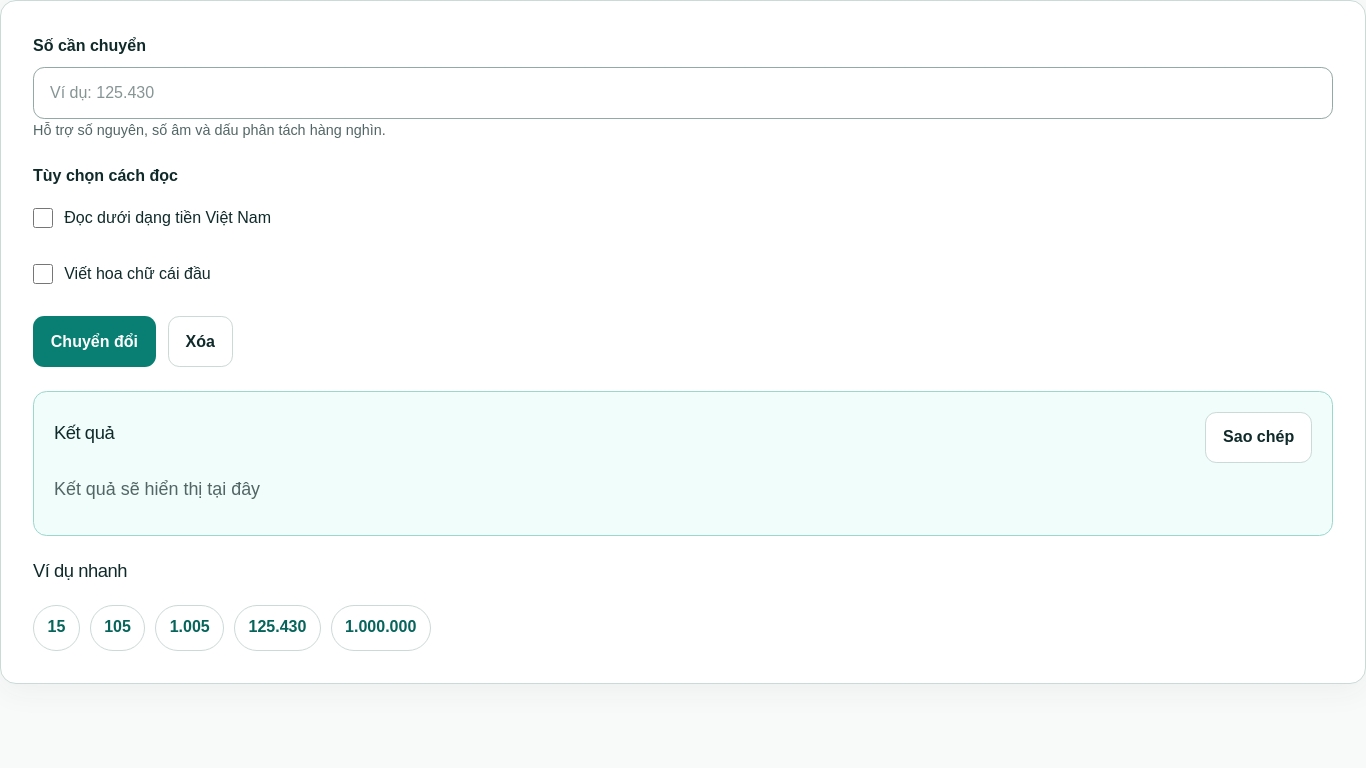
NumberInputForm › shows an accessible validation message
Click the button "Chuyển đổi" at [94, 342], box [33,316,156,367]
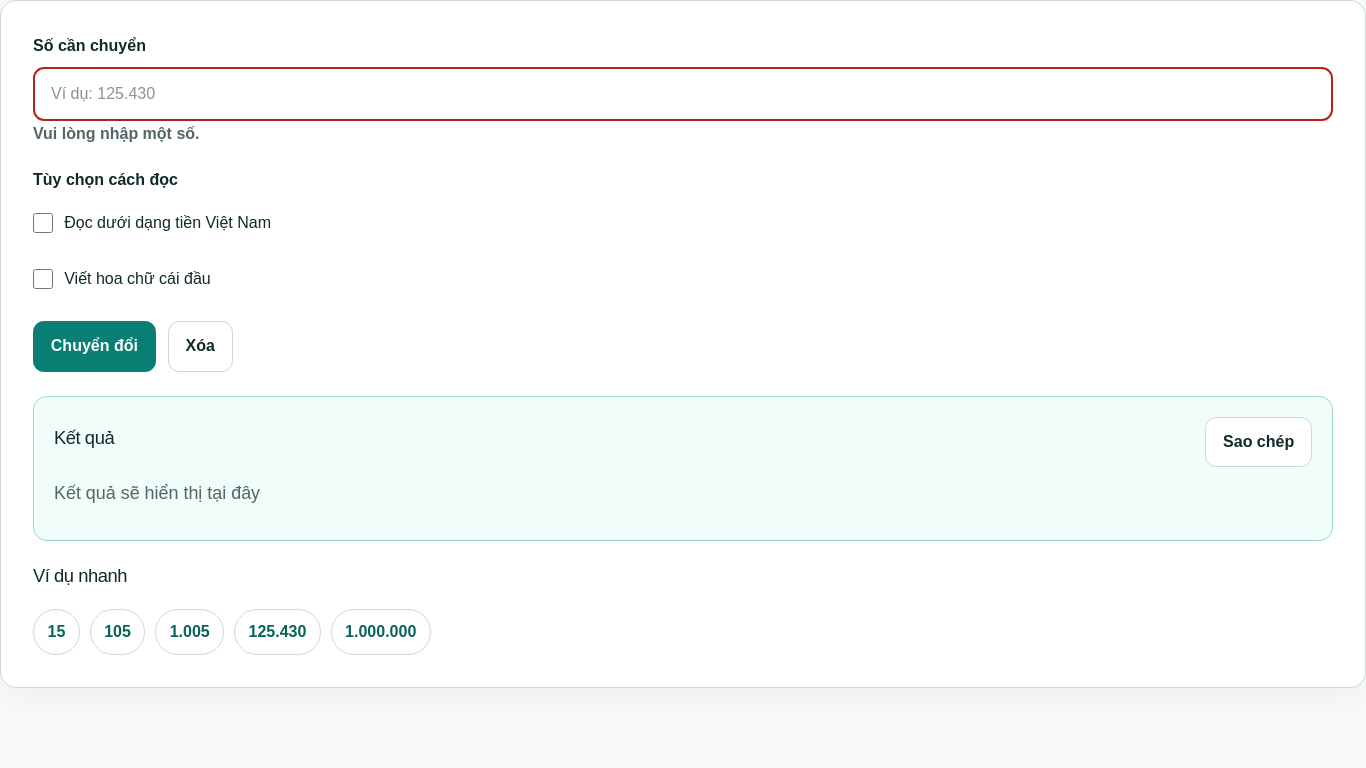
Expected: the message reads "Vui lòng nhập một số.", [33,125,200,142]
